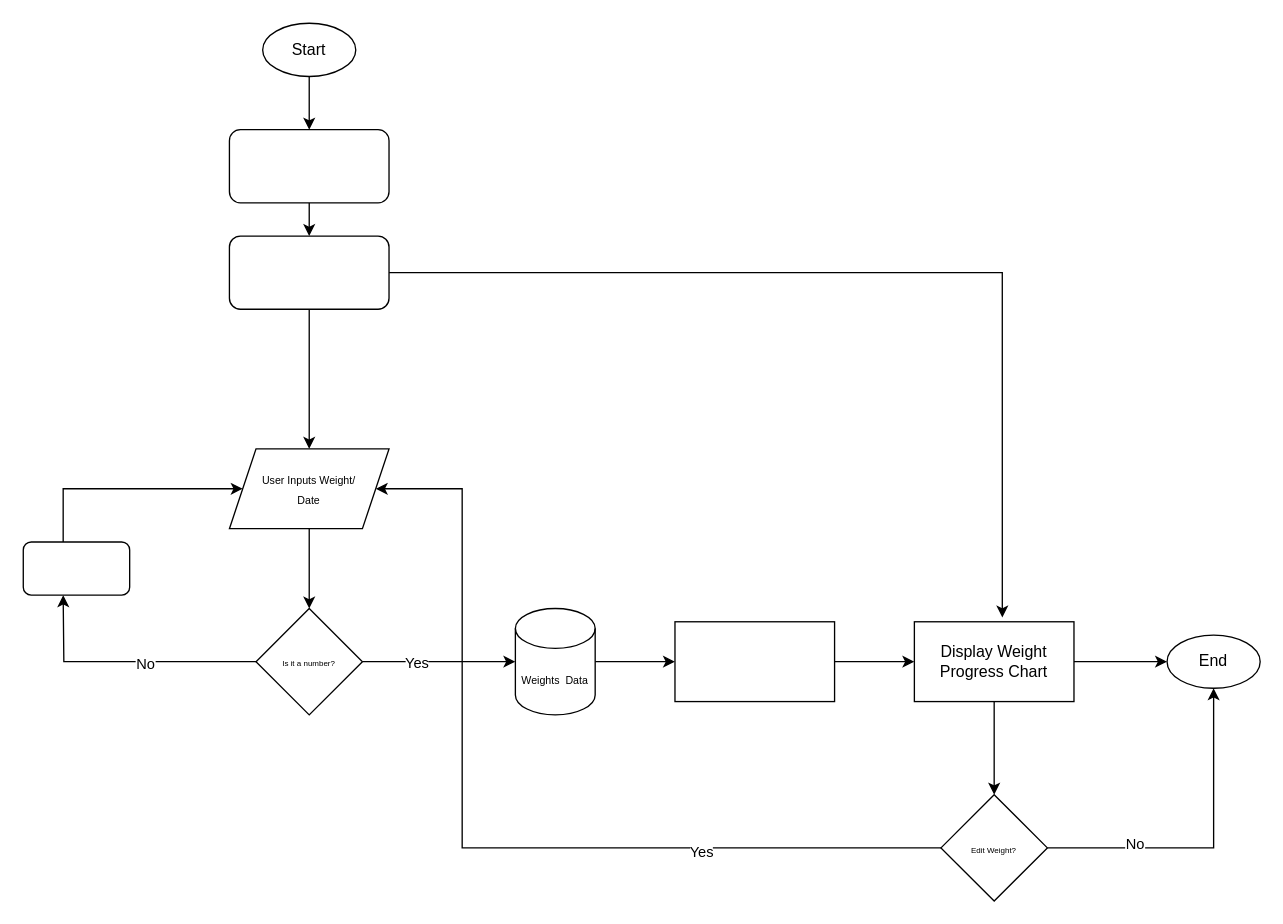
The diagram is 1283 pixels wide and 924 high, and some of its shapes have lost their labels. Here are the shapes that lost their labels. From the top down, the box of each, then its label:
(228, 128, 389, 203): Logged In
(228, 235, 389, 309): Weight Tracker
(22, 541, 130, 595): Show Warning
(674, 620, 835, 702): Analyze Weight Data
